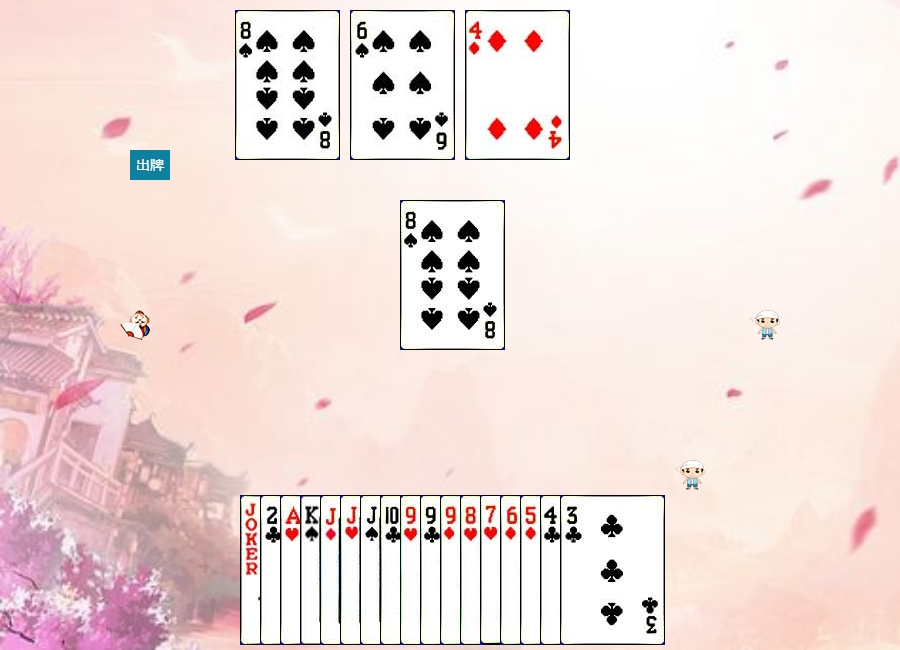10~2: (380, 495, 485, 645)
11~1: (320, 495, 425, 645)
11~3: (340, 495, 445, 645)
11~4: (360, 495, 465, 645)
13~4: (300, 495, 405, 645)
14~3: (280, 495, 385, 645)
15~2: (260, 495, 365, 645)
18~4: (240, 495, 345, 645)
3~2: (560, 495, 665, 645)
4~1: (465, 10, 570, 160)
4~2: (540, 495, 645, 645)
5~1: (520, 495, 625, 645)
6~1: (500, 495, 605, 645)
6~4: (350, 10, 455, 160)
7~3: (480, 495, 585, 645)
8~3: (460, 495, 565, 645)
8~4: (235, 10, 340, 160), (400, 200, 505, 350)
9~1: (440, 495, 545, 645)
9~2: (420, 495, 525, 645)
9~3: (400, 495, 505, 645)
